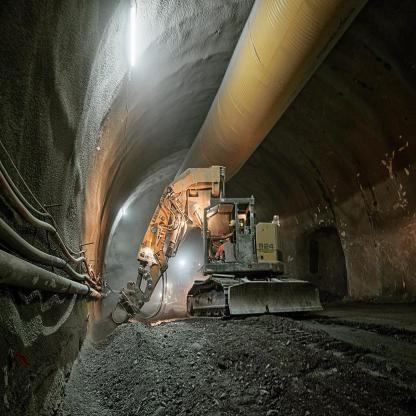excavator: (109, 152, 341, 348)
